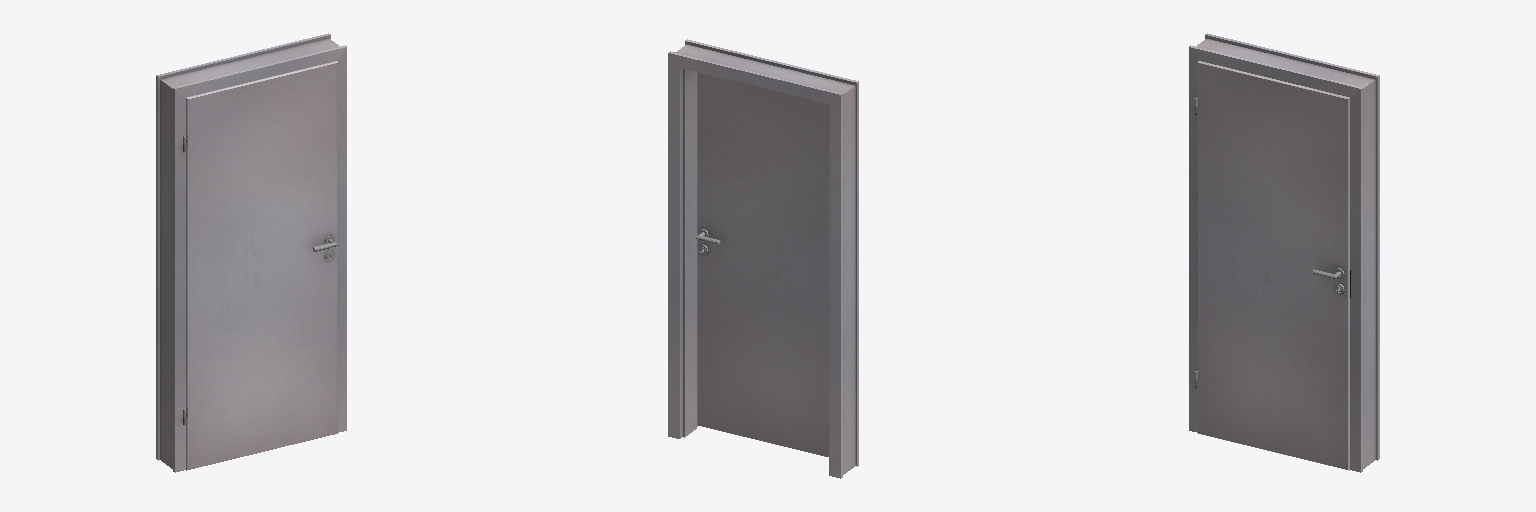
3 views of the same model, side by side, from view 1: azimuth 30°, elevation 25°; view 2: azimuth 150°, elevation 25°; view 3: azimuth 330°, elevation 25° (orthographic).
Visible parts, largest first — view 1: Plane.001, Plane.002; view 2: Plane.001, Plane.002; view 3: Plane.001, Plane.002.
Boxes of the visible parts, x1,y1,x2,y2 form: Plane.001: [183, 61, 337, 470]; Plane.002: [156, 33, 346, 472]; Plane.001: [697, 72, 828, 456]; Plane.002: [668, 39, 858, 478]; Plane.001: [1195, 61, 1349, 470]; Plane.002: [1189, 33, 1379, 472].
Bounding box in the file's own units: 0.97 × 2.06 × 0.2606.
Materials: 3 (1 with a texture image).